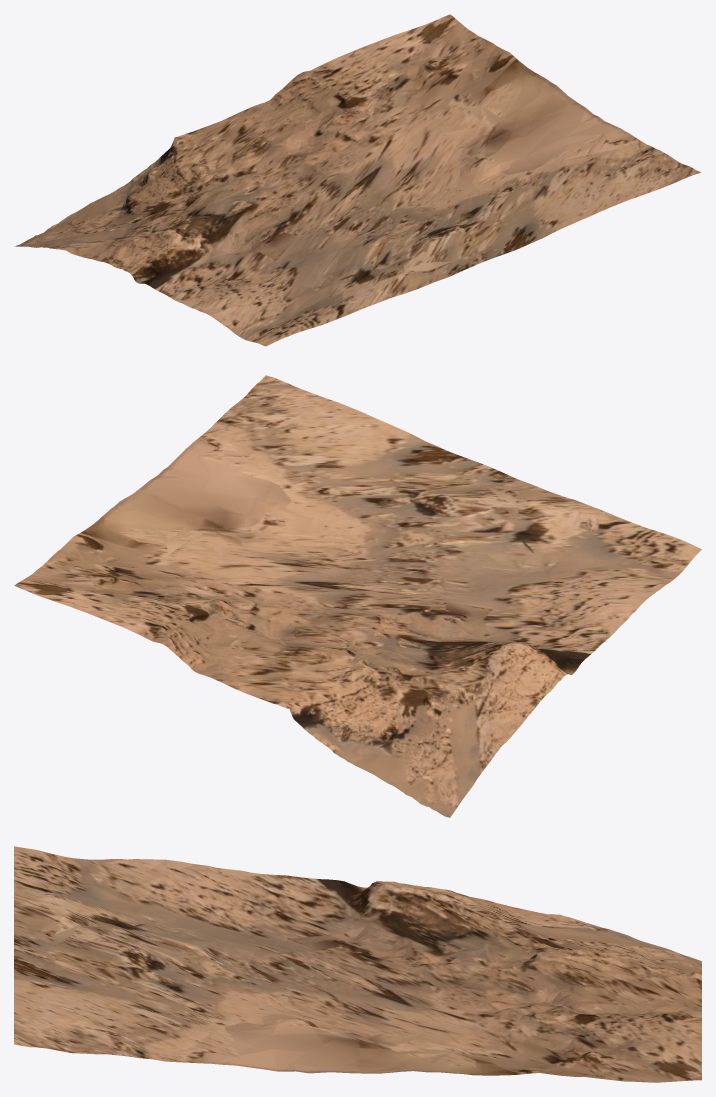
The picture shows the model from 3 angles, top to bottom: view 1: azimuth 30°, elevation 25°; view 2: azimuth 150°, elevation 25°; view 3: azimuth 270°, elevation 25°; orthographic projection. The views are drawn at different scales.
Size of the model in its own units: 4.18 by 1.39 by 4.18.
Materials: 3 (3 with a texture image).
